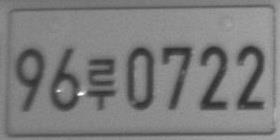0: (125, 46, 155, 111)
2: (235, 44, 265, 110), (198, 45, 228, 110)
6: (49, 47, 80, 110)
7: (161, 45, 192, 111)
9: (14, 47, 45, 111)
루: (85, 57, 115, 110)
